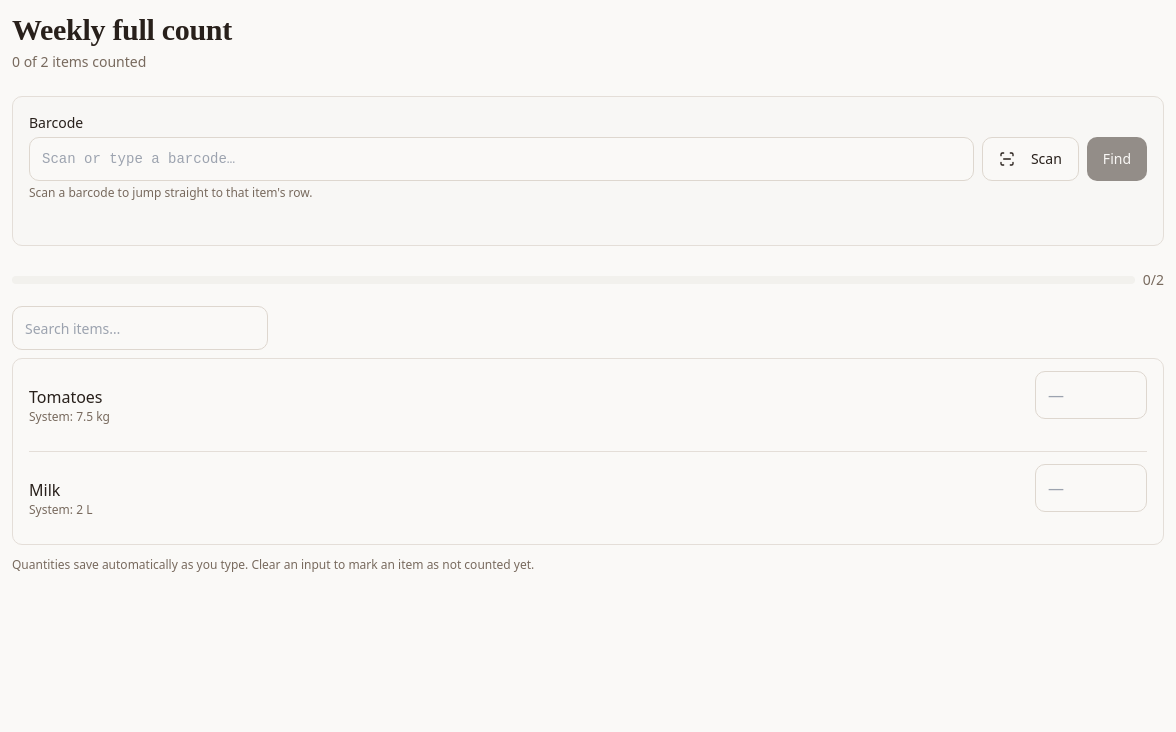
Test: CountSheetPage › filters lines by search
Type "milk" into the search field named "Search items in this count" at (140, 328), box [12, 306, 268, 350]
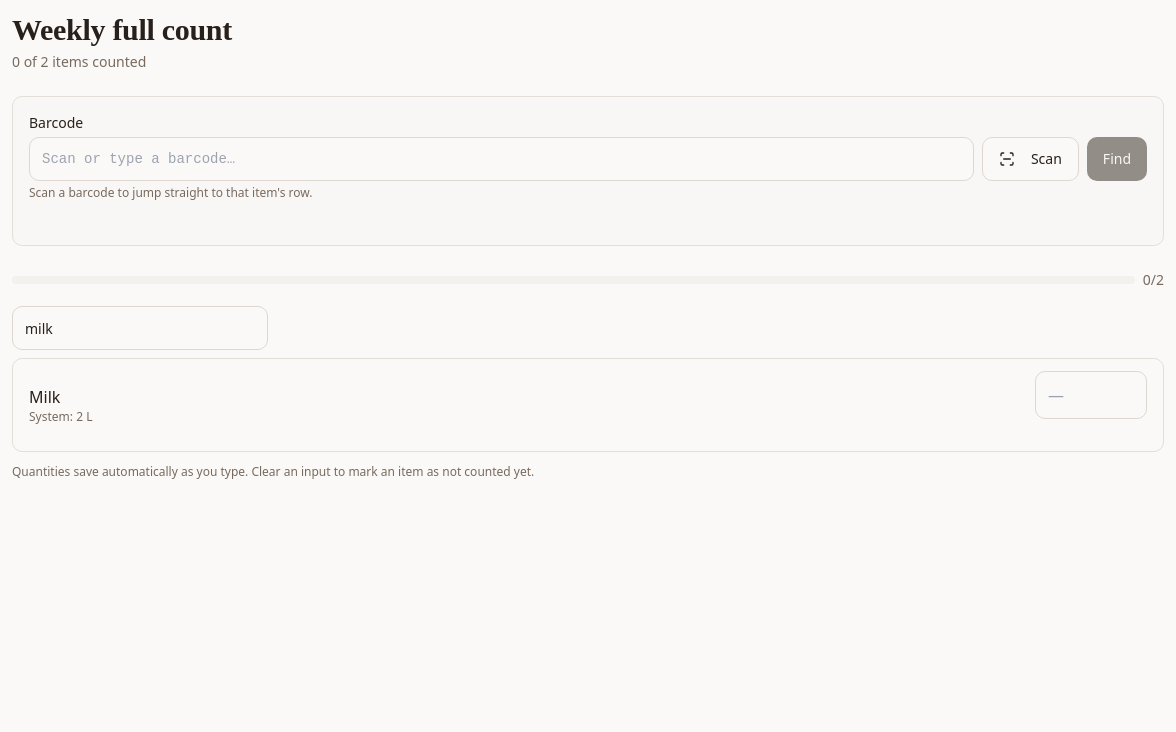
Expected: the text "Milk" is shown, [29, 386, 60, 408]
Expected: the text "Tomatoes" is gone
